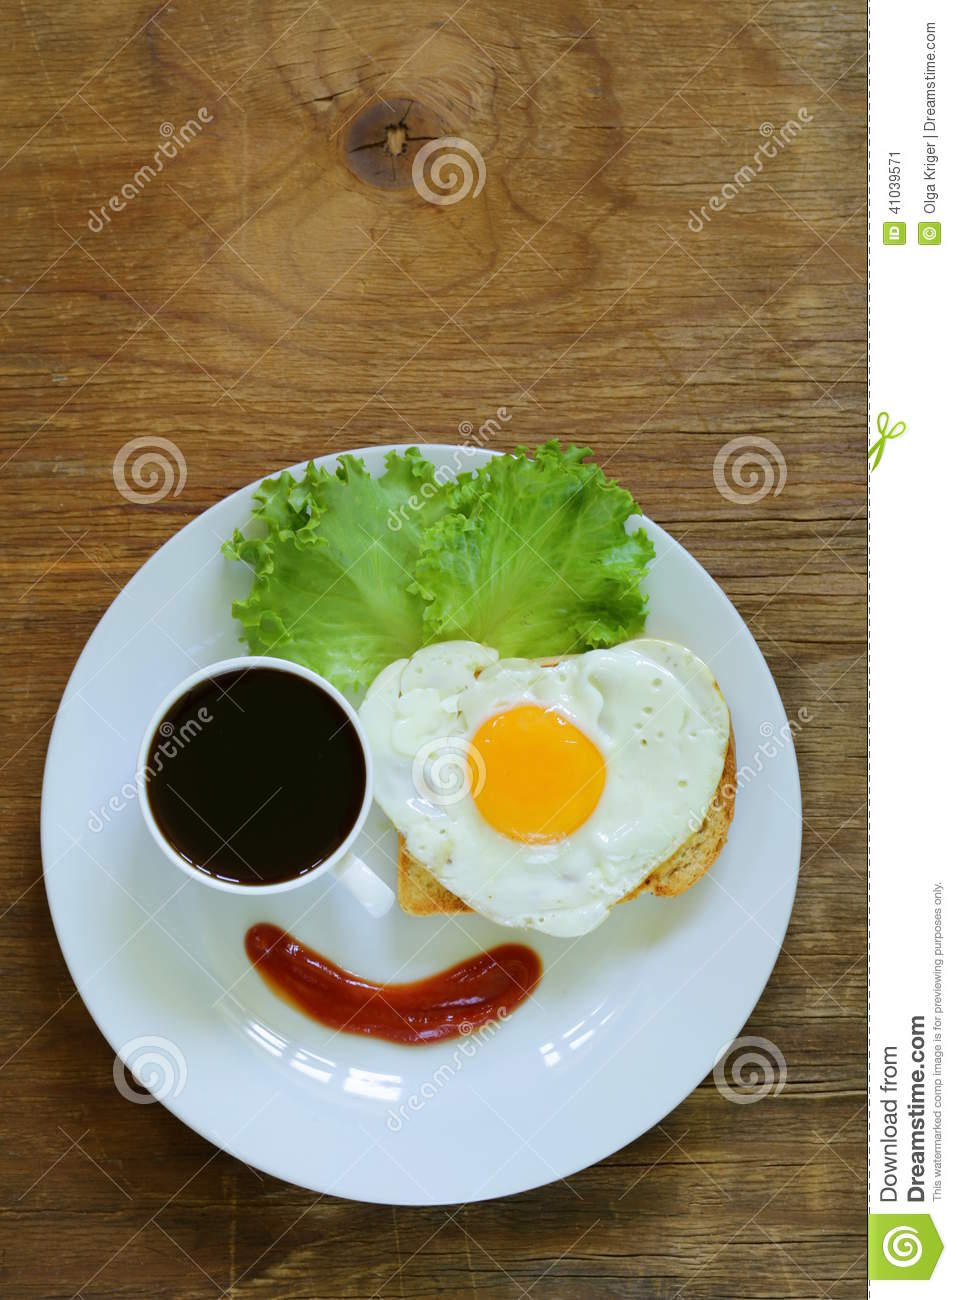chopped lettuce: (286, 483, 644, 642)
fried egg: (386, 647, 686, 898)
